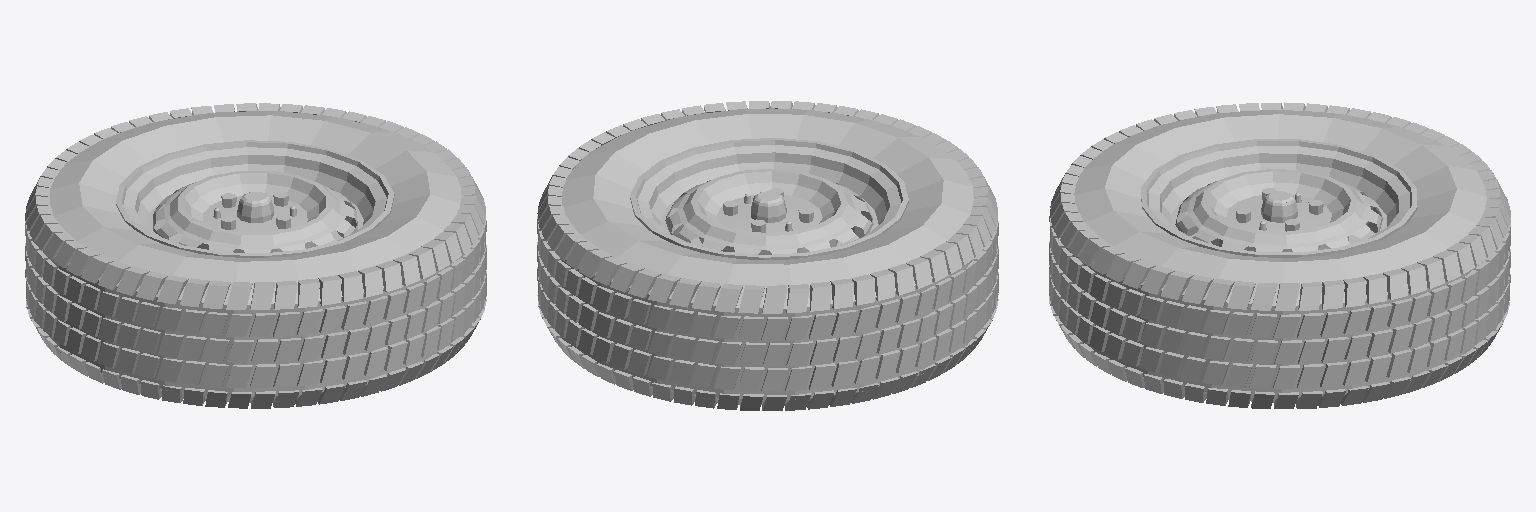
Rendered from pneugauche.obj.
3 views of the same model, side by side, from view 1: azimuth 30°, elevation 25°; view 2: azimuth 150°, elevation 25°; view 3: azimuth 270°, elevation 25° (orthographic).
Bounding box in the file's own units: 0.6684 × 0.2194 × 0.669.